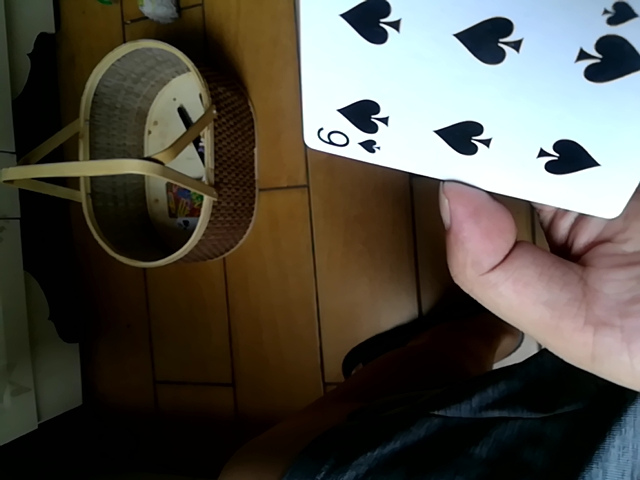ht 6: (294, 0, 640, 227)
